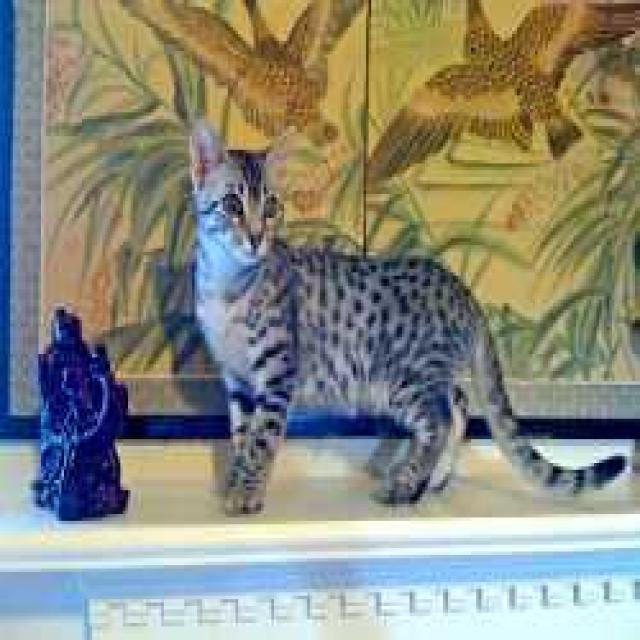Egyptian_Mau: (187, 123, 281, 266)
